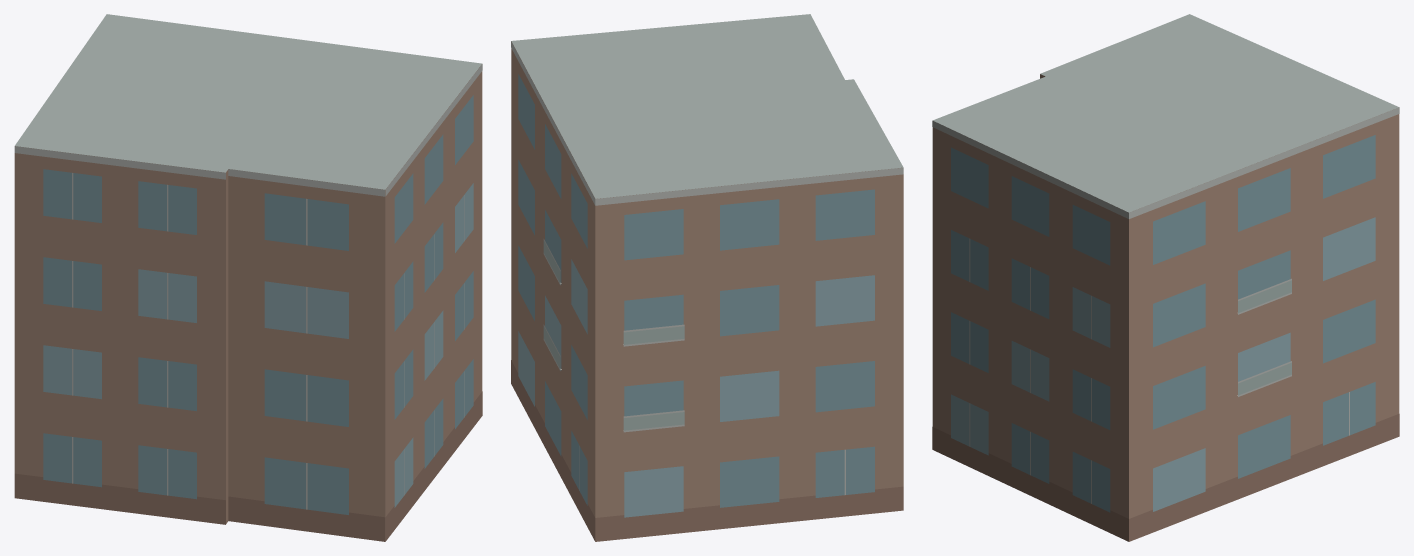
The model's file is survey-upis-32914477.glb.
3 views of the same model, side by side, from view 1: azimuth 30°, elevation 25°; view 2: azimuth 150°, elevation 25°; view 3: azimuth 270°, elevation 25° (orthographic). The views are drawn at different scales.
Parts seen in each view (by area): view 1: survey-upis-32914477.tmp; view 2: survey-upis-32914477.tmp; view 3: survey-upis-32914477.tmp.
Part boxes in pixels (x1,y1,x2,y2): survey-upis-32914477.tmp: [14, 14, 482, 541]; survey-upis-32914477.tmp: [511, 14, 903, 541]; survey-upis-32914477.tmp: [932, 14, 1399, 541].
Bounding box in the file's own units: 15.79 × 12.2 × 15.69.
